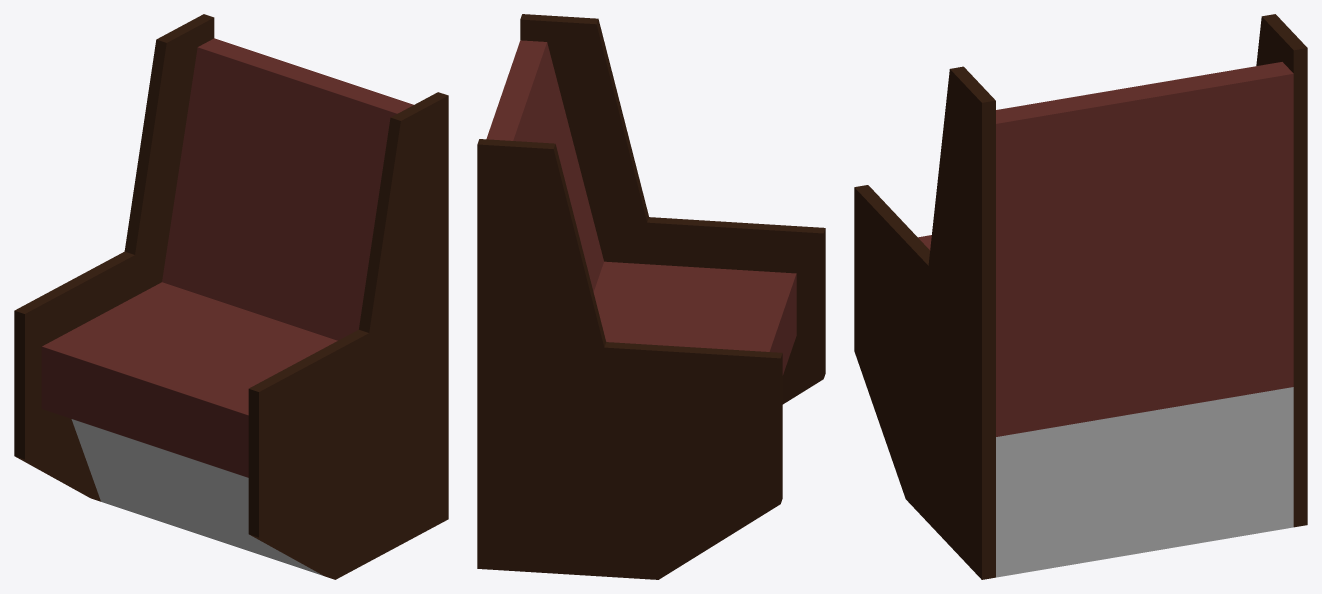
Rendered from Cadeira.fbx.
3 views of the same model, side by side, from view 1: azimuth 30°, elevation 25°; view 2: azimuth 150°, elevation 25°; view 3: azimuth 270°, elevation 25° (orthographic). The views are drawn at different scales.
Parts seen in each view (by area): view 1: Banco2.002; view 2: Banco2.002; view 3: Banco2.002.
Part boxes in pixels (x1,y1,x2,y2): Banco2.002: (14, 14, 448, 579); Banco2.002: (477, 14, 825, 579); Banco2.002: (854, 14, 1307, 579).
Bounding box in the file's own units: 102 × 119 × 102.
